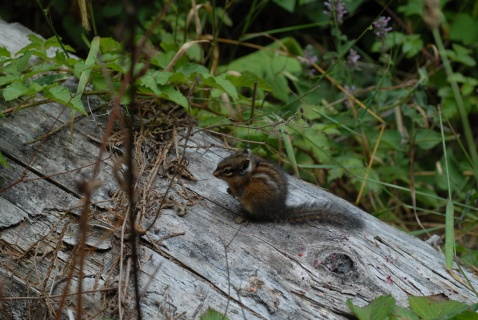Squirrel: (211, 149, 367, 226)
